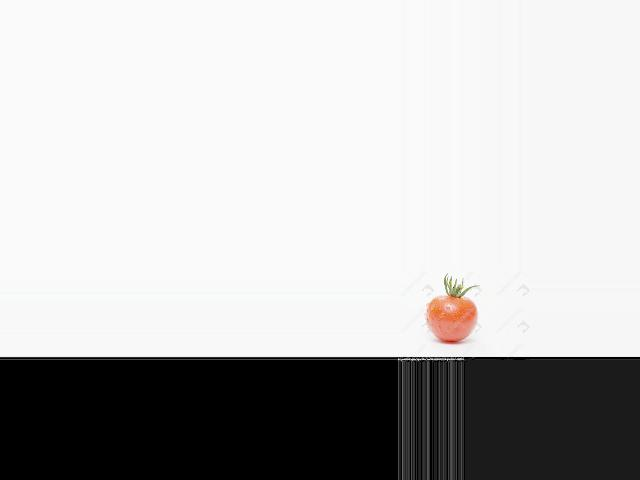tomato: (427, 296, 478, 342)
